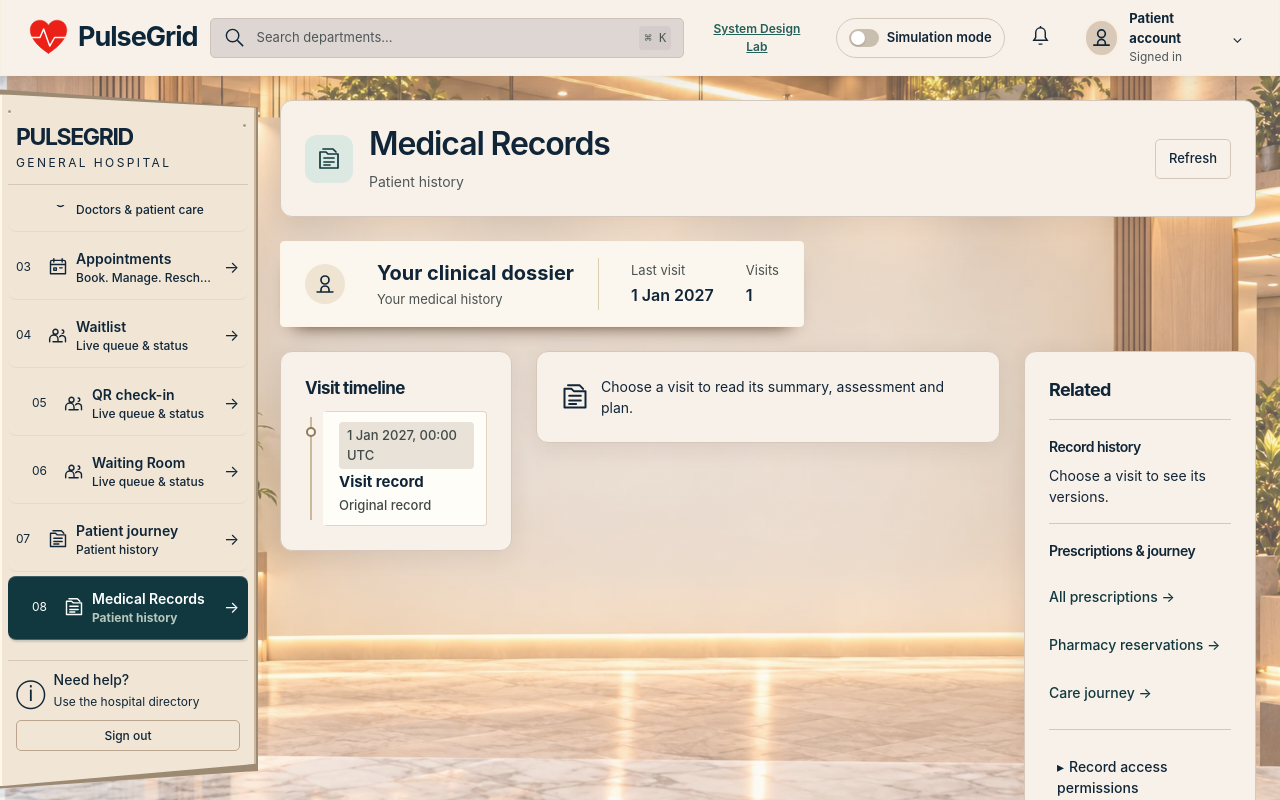
clinical and pharmacy workflows › reads own medical history and record detail
(page scrolled)
Click the button with aria-label "View record 62" at (405, 469), box [323,411,487,526]
(page scrolled)
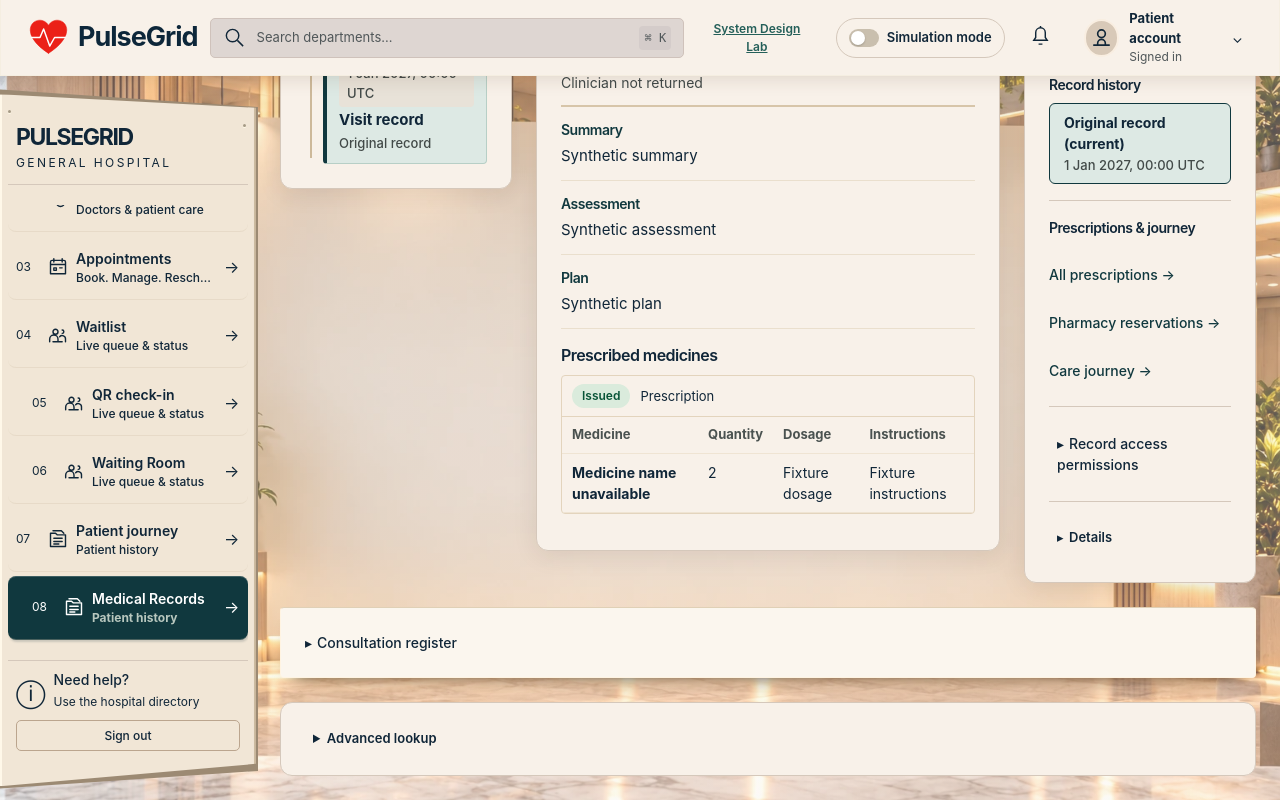
Expected: the text "Synthetic assessment" is shown, [561,220,716,239]
Expected: the text "Fixture instructions" is shown, [859,454,974,512]
